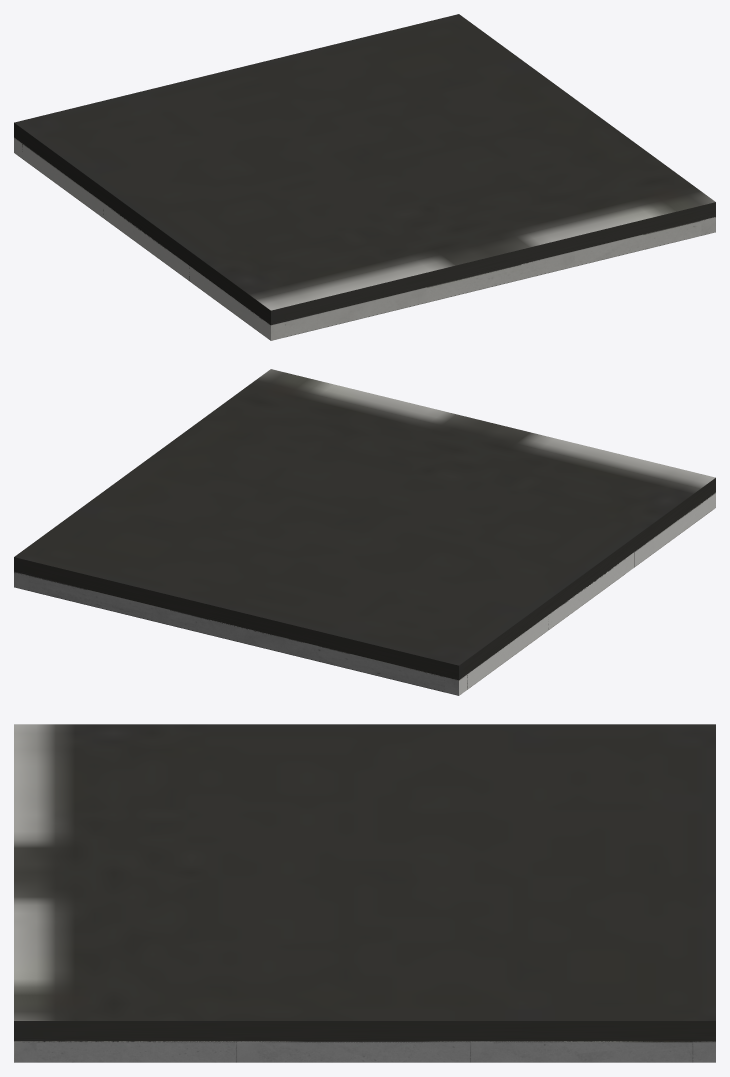
Rendered from 20220225ceiling.gltf.
3 views of the same model, one above another, from view 1: azimuth 30°, elevation 25°; view 2: azimuth 150°, elevation 25°; view 3: azimuth 270°, elevation 25° (orthographic). The views are drawn at different scales.
Parts seen in each view (by area): view 1: Ceiling, CeilingPillar; view 2: Ceiling, CeilingPillar; view 3: Ceiling, CeilingPillar.
Part boxes in pixels (x1,y1,x2,y2): Ceiling: (14, 14, 715, 325); CeilingPillar: (14, 138, 715, 340); Ceiling: (14, 369, 715, 680); CeilingPillar: (14, 492, 715, 695); Ceiling: (14, 724, 715, 1042); CeilingPillar: (14, 1041, 715, 1062).
Size of the model in its own units: 30 by 3.66 by 30.
Materials: 7 (7 with a texture image).
